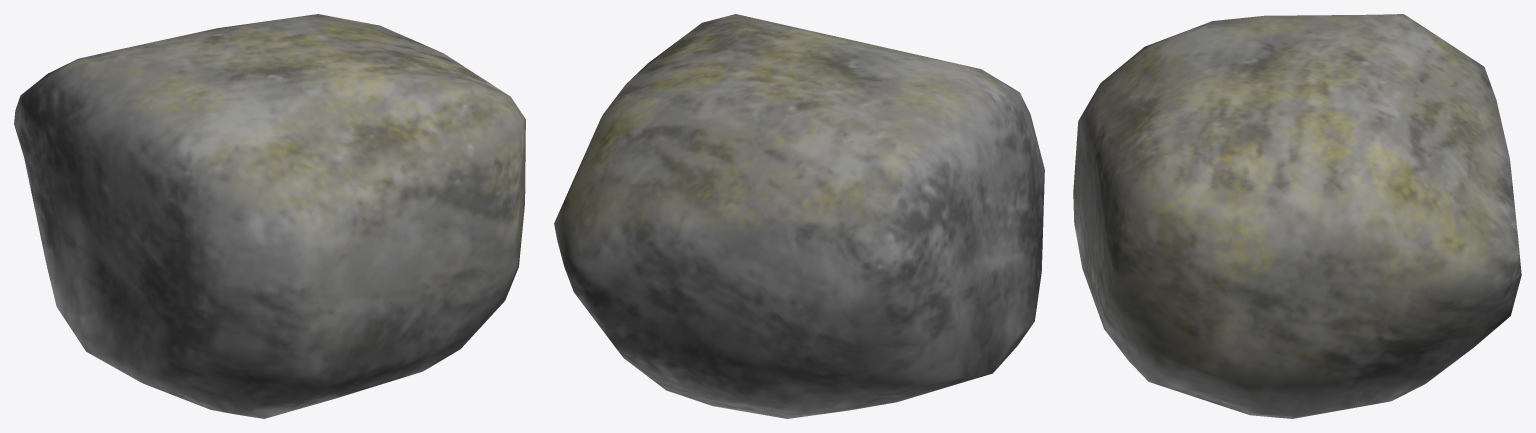
Rendered from rock2.fbx.
3 views of the same model, side by side, from view 1: azimuth 30°, elevation 25°; view 2: azimuth 150°, elevation 25°; view 3: azimuth 270°, elevation 25° (orthographic). The views are drawn at different scales.
Visible parts, largest first — view 1: kamenstredny3_lp.001; view 2: kamenstredny3_lp.001; view 3: kamenstredny3_lp.001.
Boxes of the visible parts, x1=… form: kamenstredny3_lp.001: x1=14, y1=14, x2=525, y2=418; kamenstredny3_lp.001: x1=554, y1=14, x2=1044, y2=418; kamenstredny3_lp.001: x1=1073, y1=14, x2=1521, y2=418.
Bounding box in the file's own units: 46.61 × 35.57 × 47.77.
